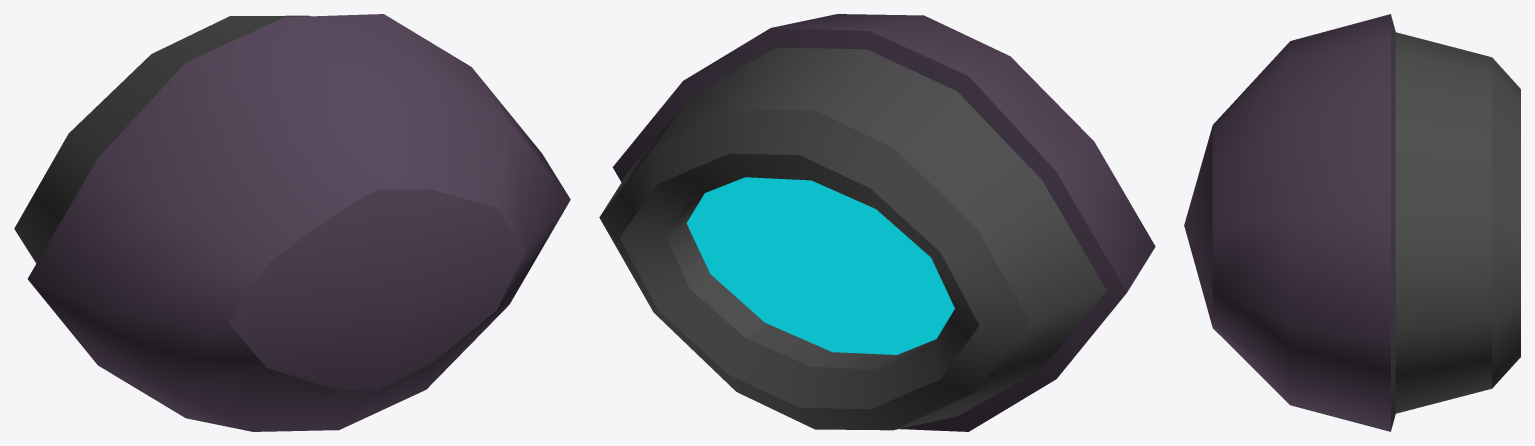
Rendered from totem_light_base.glb.
3 views of the same model, side by side, from view 1: azimuth 30°, elevation 25°; view 2: azimuth 150°, elevation 25°; view 3: azimuth 270°, elevation 25° (orthographic). The views are drawn at different scales.
Visible parts, largest first — view 1: Sphere.023; view 2: Sphere.023; view 3: Sphere.023.
Part boxes in pixels (bbox=[...]): Sphere.023: bbox=[14, 14, 570, 431]; Sphere.023: bbox=[599, 14, 1155, 431]; Sphere.023: bbox=[1184, 14, 1520, 431].
Size of the model in its own units: 3.35 by 2.47 by 2.06.
2 materials, 2 textured.
